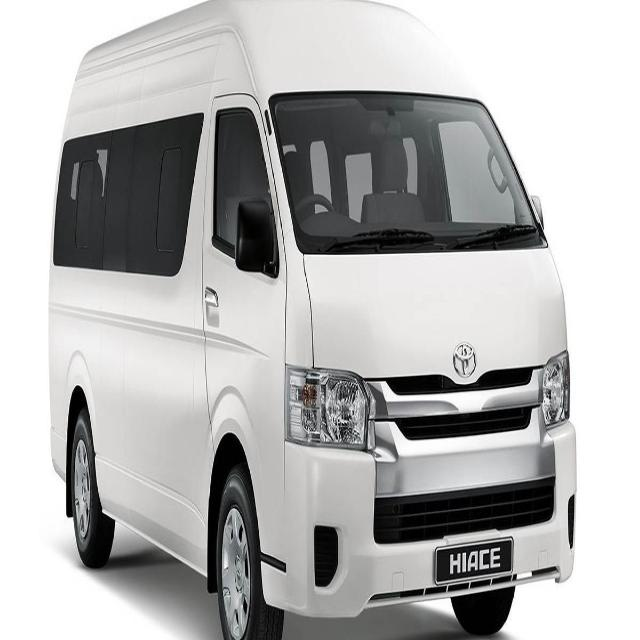autorickshaw: (285, 602, 462, 637)
bus: (49, 0, 578, 638)
